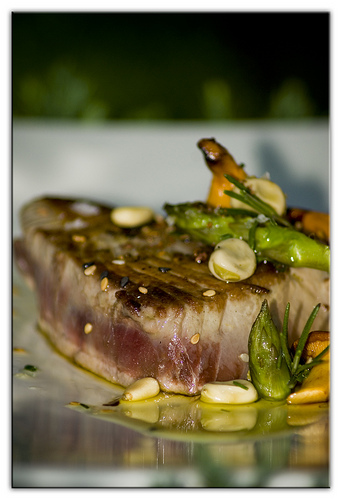fish: (13, 196, 326, 393)
